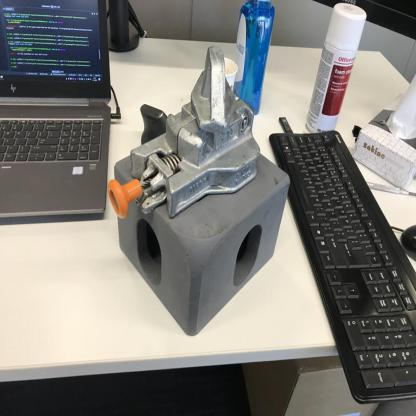CornerCasting: (112, 143, 292, 337)
Twistlock: (104, 42, 265, 226)
